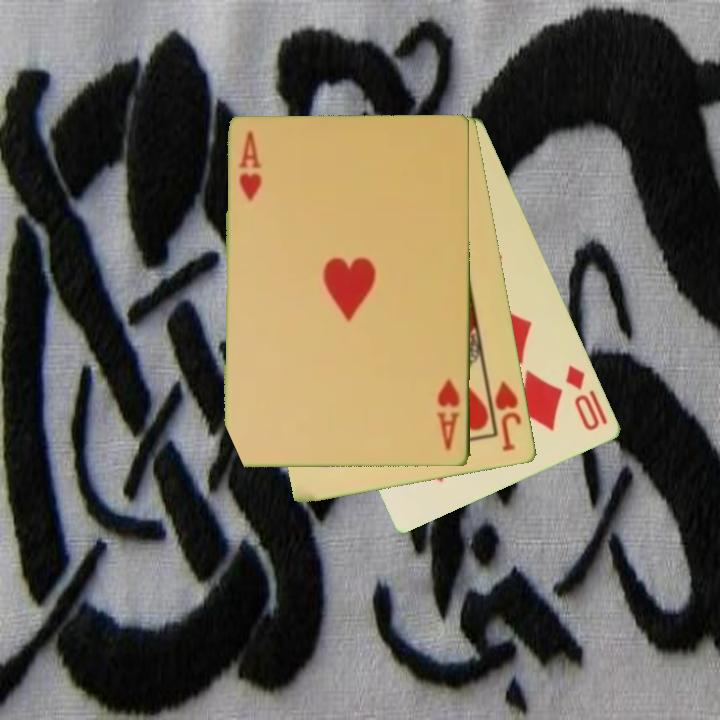10d: (562, 361, 611, 434)
Ah: (433, 376, 463, 454), (236, 127, 260, 204)
Jh: (492, 377, 525, 455)
